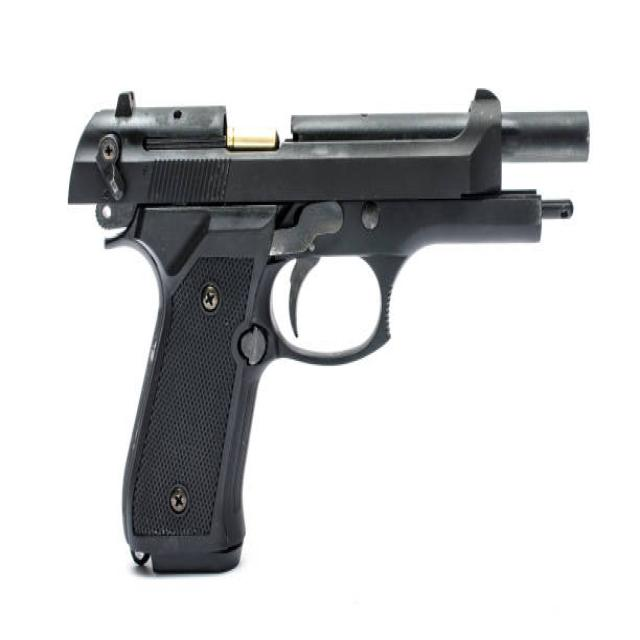pistol: (59, 85, 593, 581)
